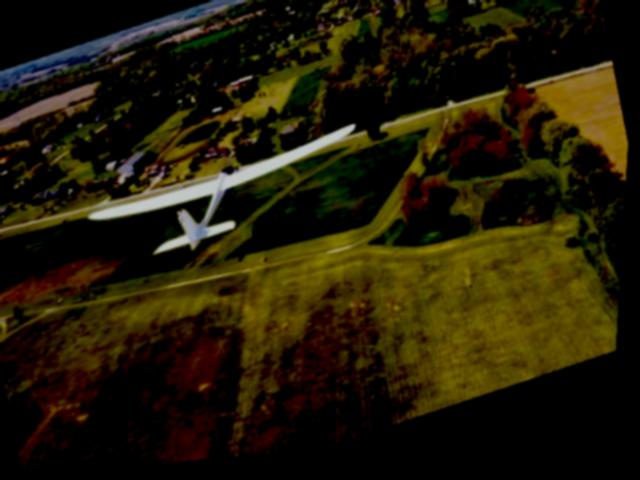uav: (75, 109, 387, 296)
